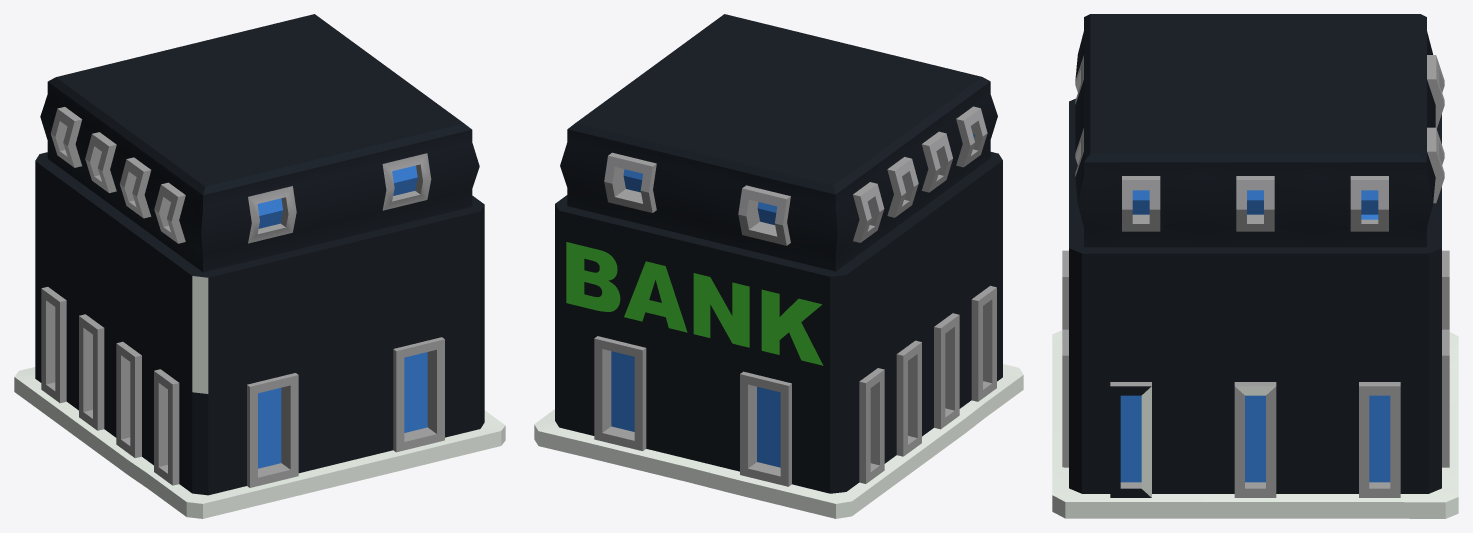
File: BankNew.fbx
The picture shows the model from 3 angles, left to right: view 1: azimuth 30°, elevation 25°; view 2: azimuth 150°, elevation 25°; view 3: azimuth 270°, elevation 25°; orthographic projection. The views are drawn at different scales.
Parts seen in each view (by area): view 1: BankBase002, BankLevelGrow007; view 2: BankBase002, BankLevelGrow007, Text006; view 3: BankBase002, BankLevelGrow007.
Boxes of the visible parts, x1,y1,x2,y2 form: BankBase002: [14, 152, 505, 518]; BankLevelGrow007: [40, 14, 479, 272]; BankBase002: [534, 152, 1023, 518]; BankLevelGrow007: [560, 14, 997, 271]; Text006: [566, 242, 823, 365]; BankBase002: [1052, 98, 1458, 518]; BankLevelGrow007: [1075, 14, 1444, 247].
Bounding box in the file's own units: 436 × 414 × 436.
